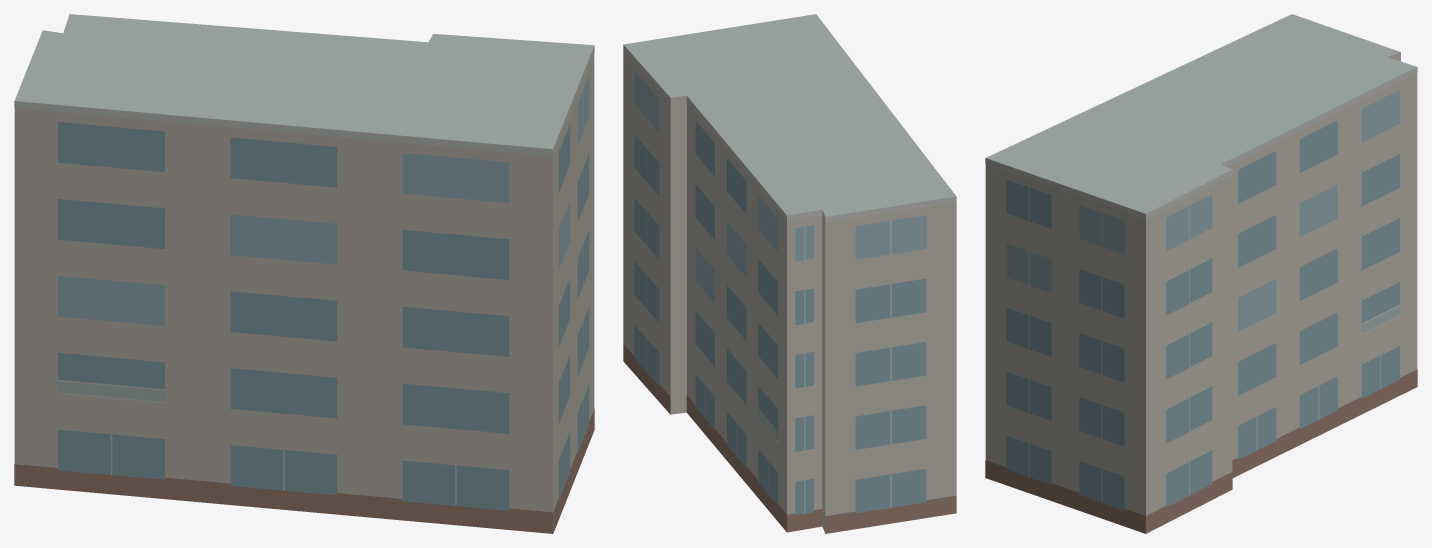
Rendered from survey-upis-32796606.glb.
3 views of the same model, side by side, from view 1: azimuth 30°, elevation 25°; view 2: azimuth 150°, elevation 25°; view 3: azimuth 270°, elevation 25° (orthographic). The views are drawn at different scales.
Visible parts, largest first — view 1: survey-upis-32796606.tmp; view 2: survey-upis-32796606.tmp; view 3: survey-upis-32796606.tmp.
Part boxes in pixels (x1,y1,x2,y2): survey-upis-32796606.tmp: (14,14,594,533); survey-upis-32796606.tmp: (623,14,956,533); survey-upis-32796606.tmp: (985,14,1417,533).
Bounding box in the file's own units: 17.95 × 13.4 × 16.4.
